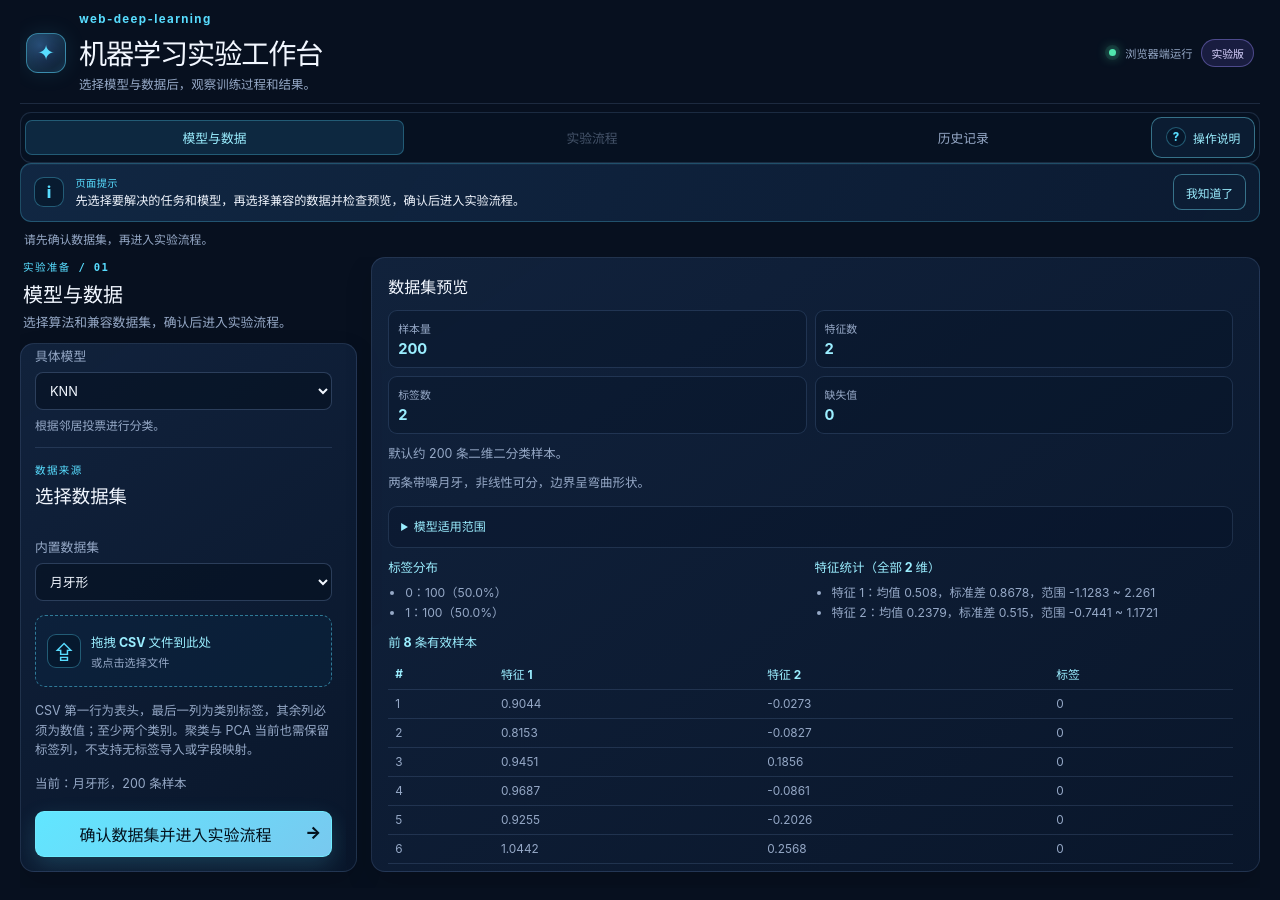
Test: 训练运行记录 › Worker 缺失时测试回退让出事件队列并响应停止
(page scrolled)
Click the button "确认数据集并进入实验流程 →". click: (184, 834)
box: [35,811,332,857]
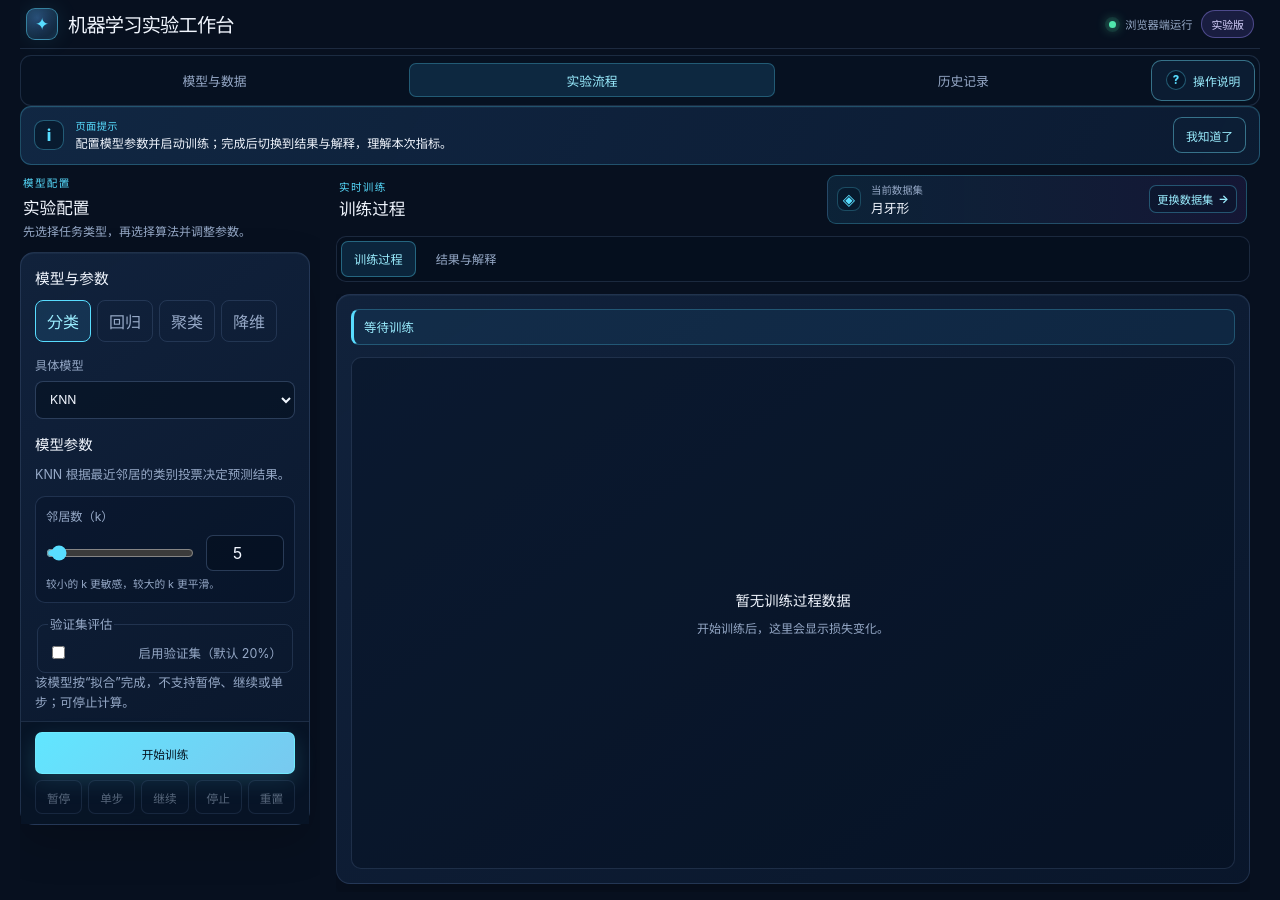
Select "逻辑回归" in the dropdown labelled "具体模型". click: (165, 400)
box: [35,381,295,419]
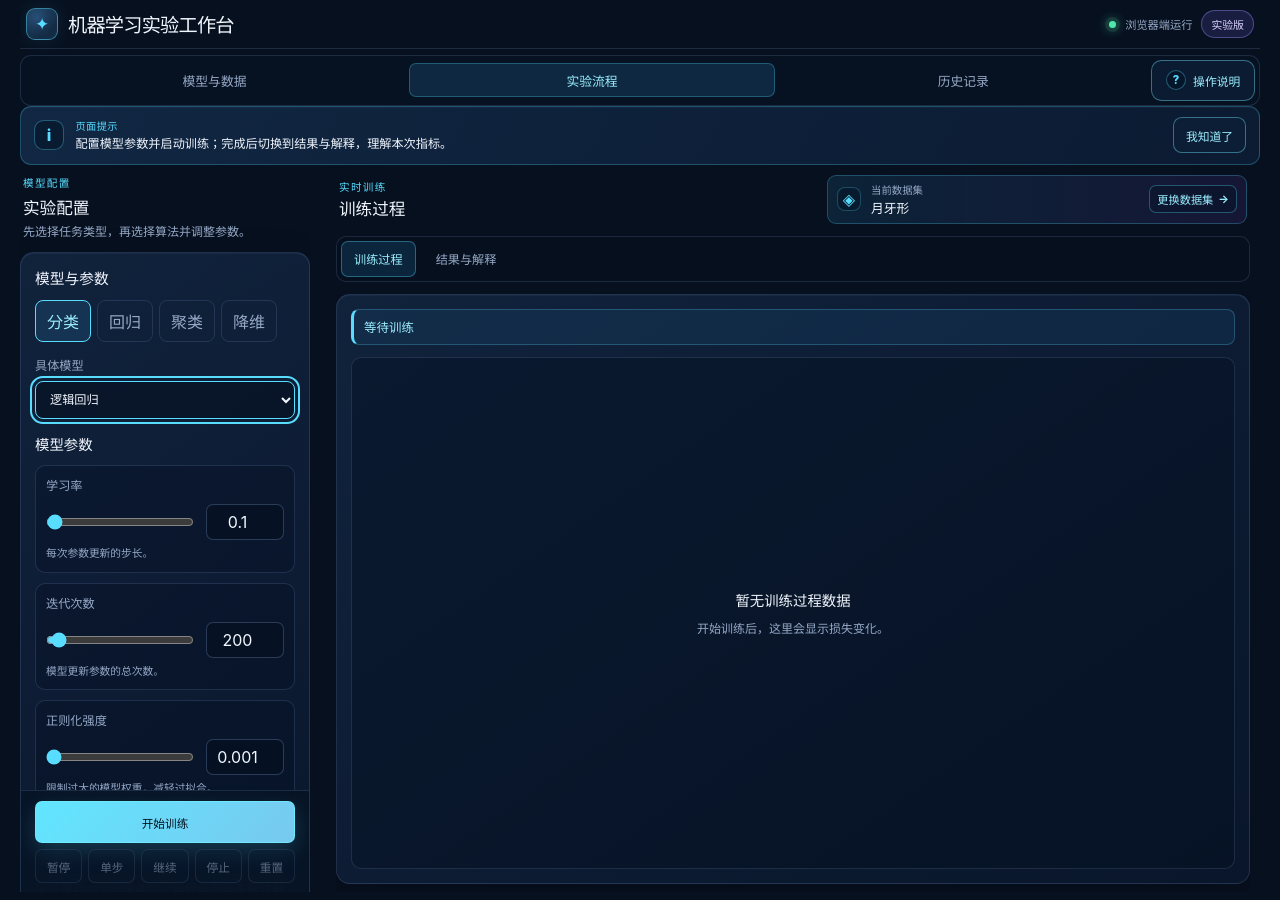
Replace the text in the number field named "迭代次数" with "5000". click: (245, 640)
box: [206,622,284,658]
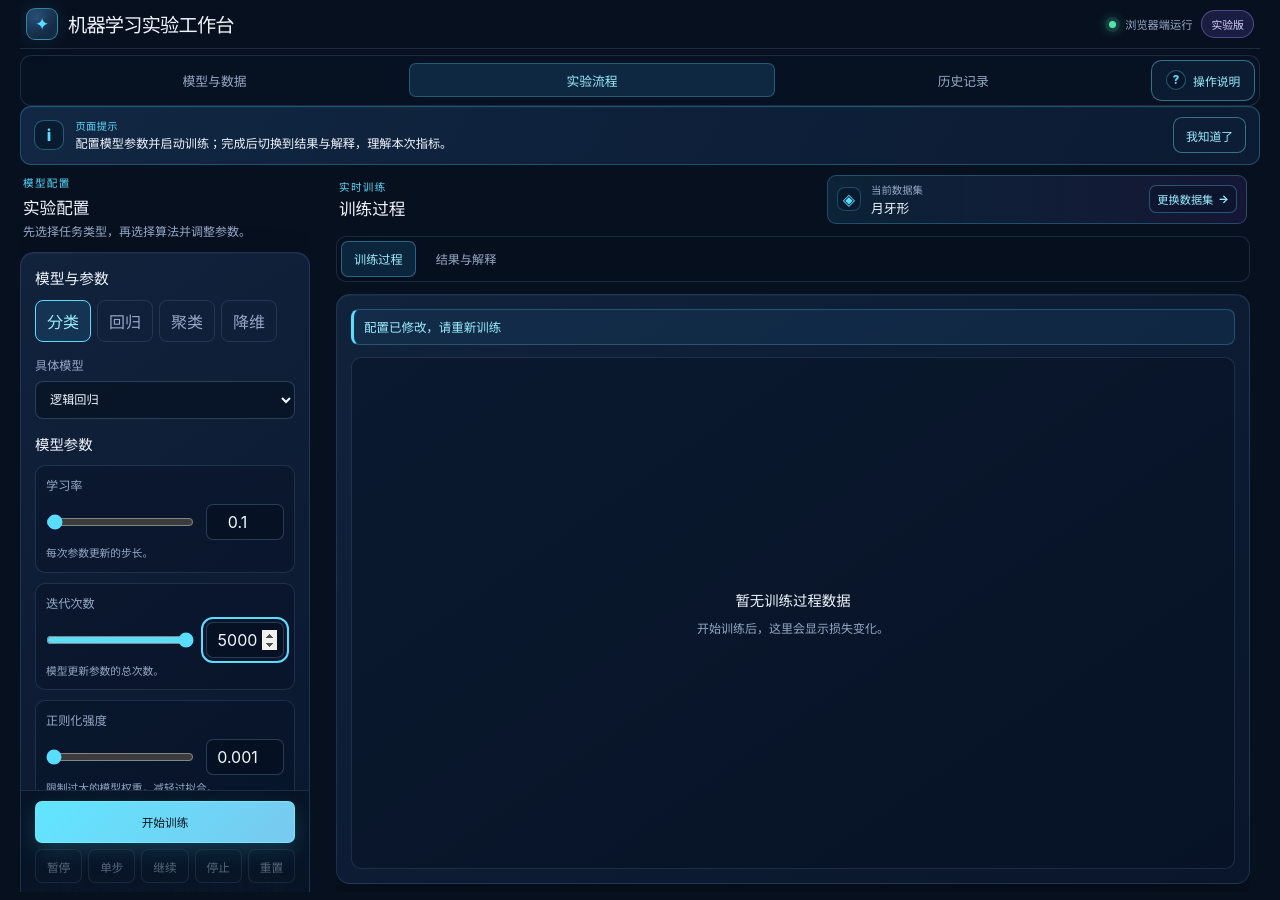
Click the button "开始训练". click: (165, 822)
box: [35,801,295,843]
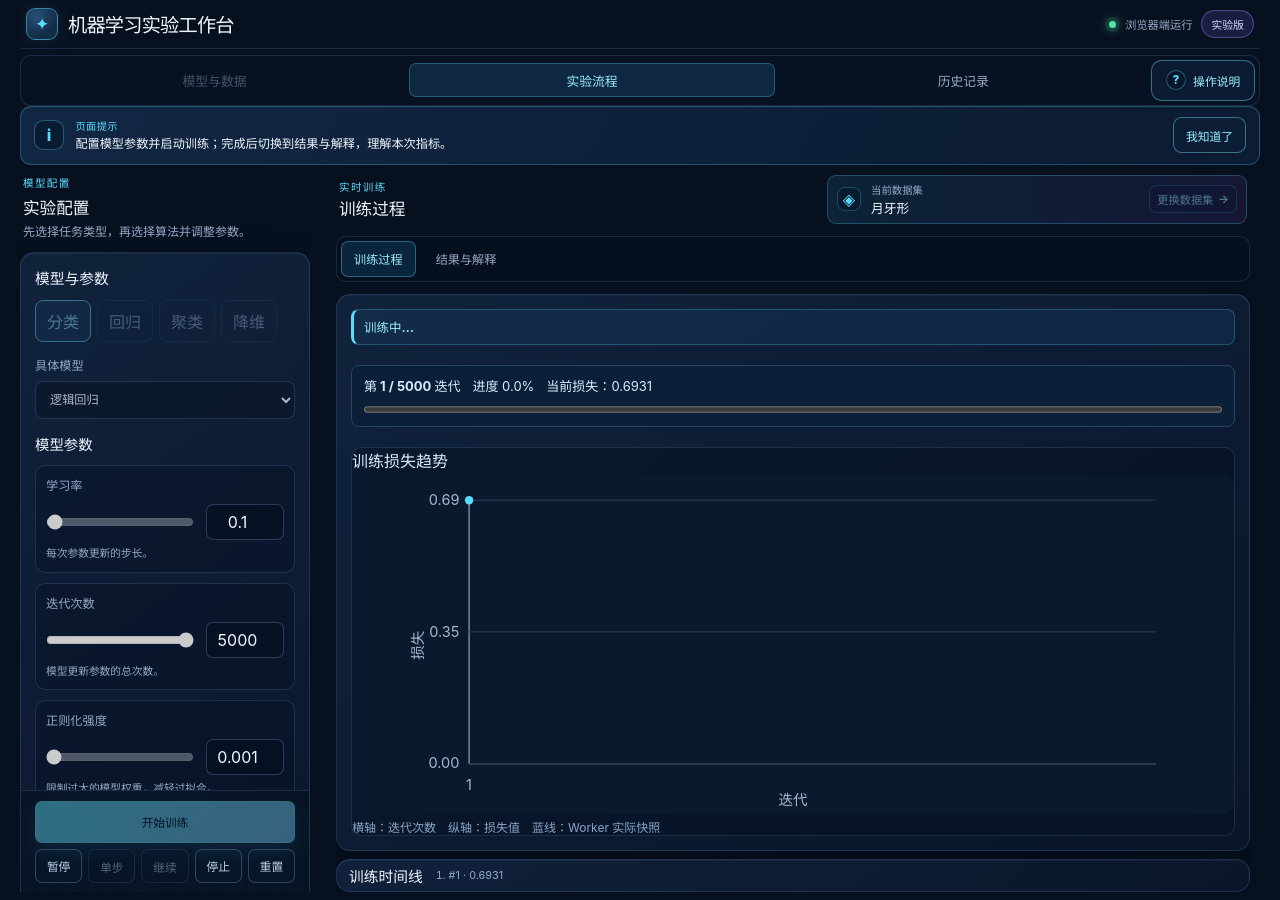
Check: the message with class "single-page-status" reads "训练中…", box [364,320,414,335]
Click the button "停止". click: (218, 866)
box: [195,849,242,883]
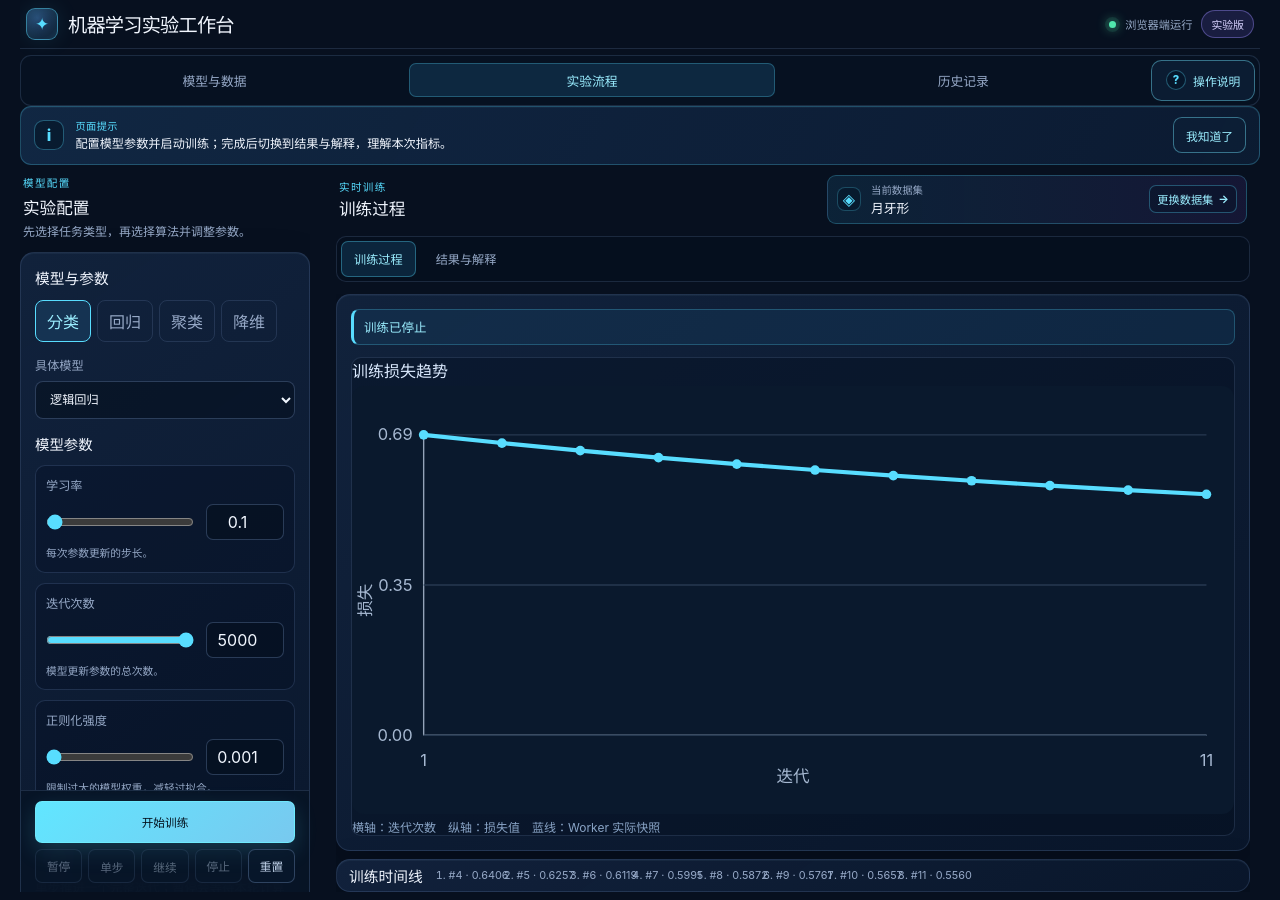
Check: the message with class "single-page-status" reads "训练已停止", box [364,320,426,335]
